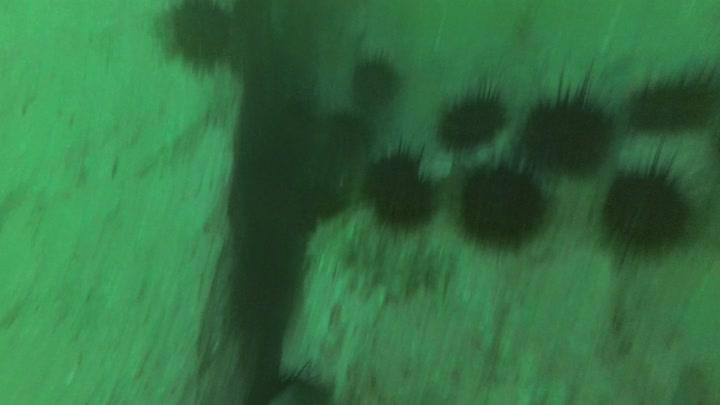urchin: (595, 156, 698, 273), (520, 72, 609, 181), (452, 159, 541, 255), (360, 138, 445, 232), (627, 64, 715, 138), (428, 79, 509, 157), (170, 2, 231, 74), (342, 49, 402, 115), (318, 106, 368, 158)
